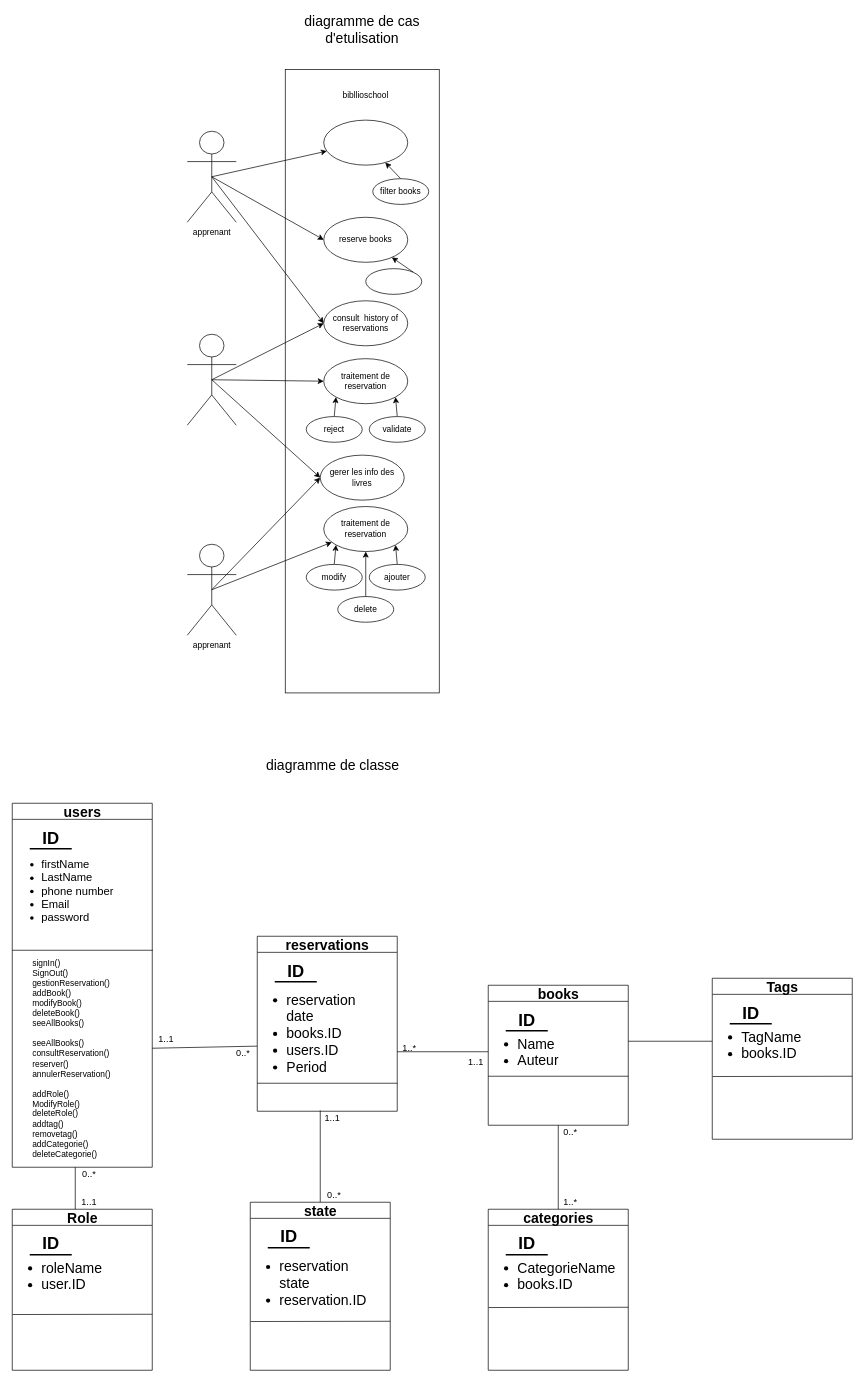
Image size: 865x1383. Some labels were removed from this diagram. The centre of each missing label's shape, as x and y in pixels:
cansel: point (393, 281)
gérant: point (211, 379)
view books: point (365, 142)
